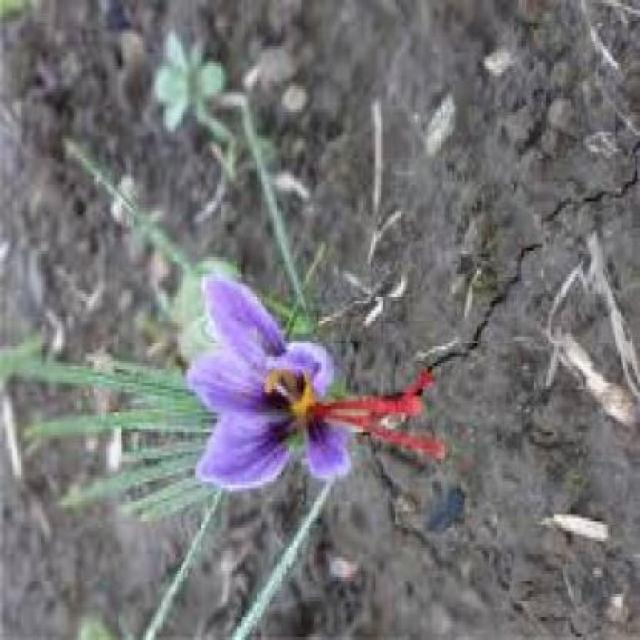saffron open: (188, 275, 334, 488), (306, 421, 350, 478)
